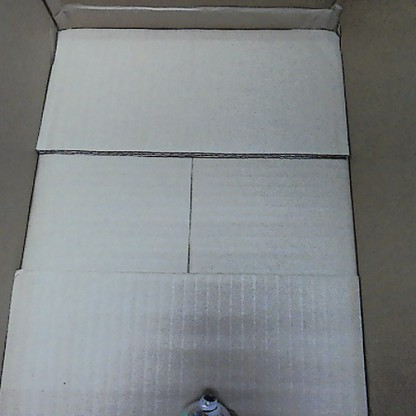whitefish: (174, 385, 237, 414)
